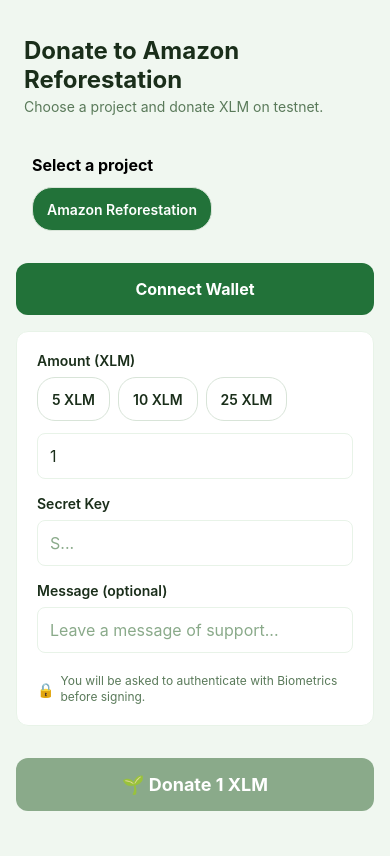
it: donation queued while offline › stores the intent and lists it as pending instead of failing
Expected: the heading "Donate to Amazon Reforestation" is shown, 24,36 -> 245,94
Click the button with aria-label "Donate 10 XLM": [158, 399] box 118,377 -> 198,421
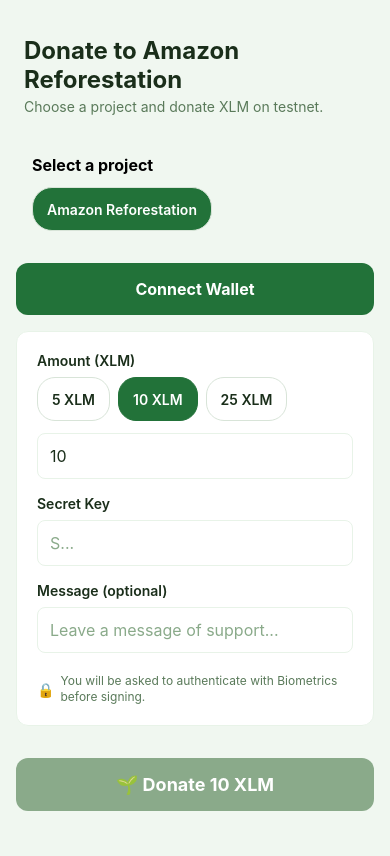
Click the button with aria-label "Confirm donation of 10 XLM": [195, 784] box 16,758 -> 374,811
(page scrolled)
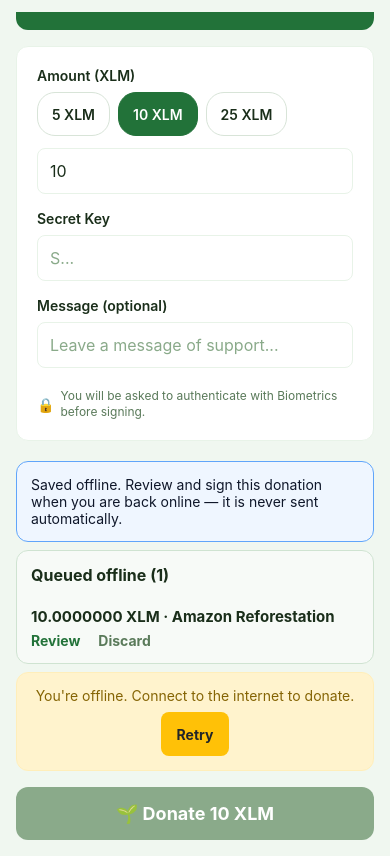
Expected: the text "Saved offline" is shown, 31,476 -> 326,527
Expected: the element with test id "offline-outbox" is shown, 16,550 -> 374,664
Expected: the text "10.0000000 XLM · Amazon Reforestation" is shown, 31,607 -> 359,626
